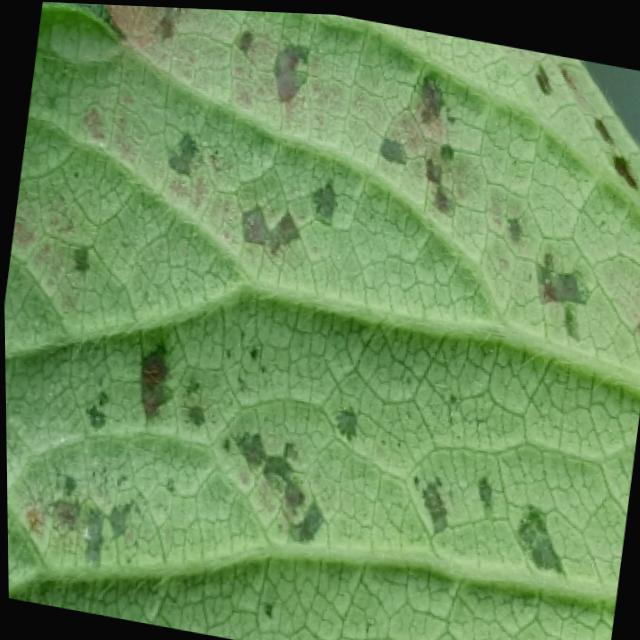Angular Leafspot: (3, 1, 640, 640)
